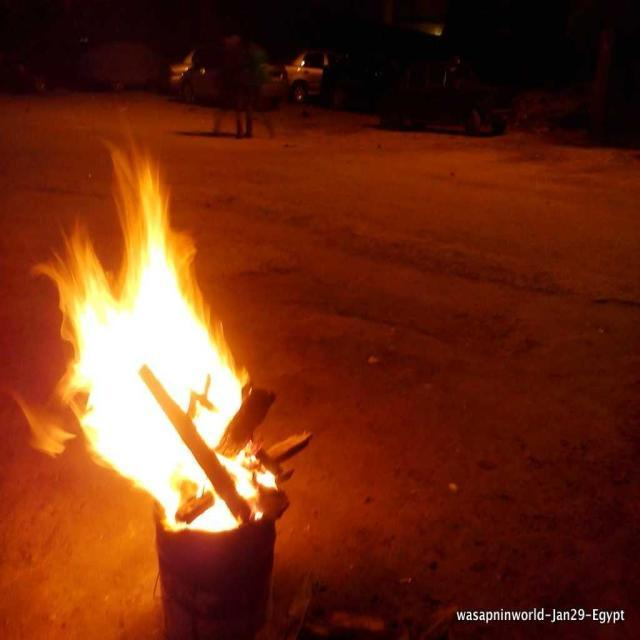Fire: (94, 284, 198, 473)
